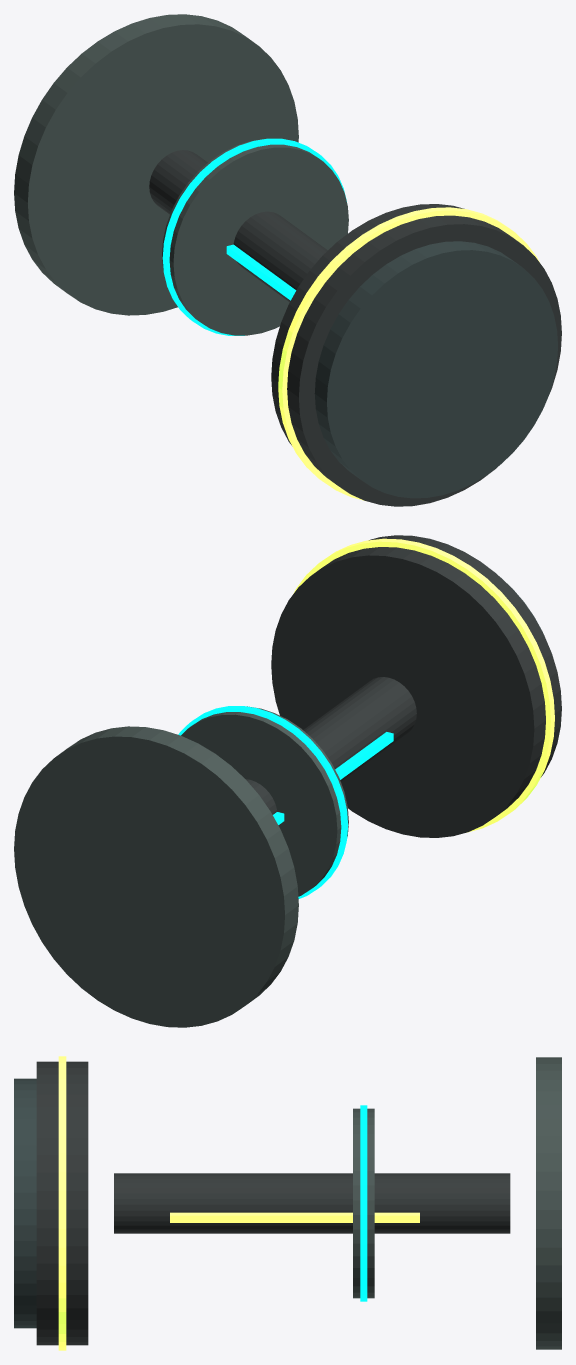
File: pedestal_barstool_lime_teal.glb
The picture shows the model from 3 angles, top to bottom: view 1: azimuth 30°, elevation 25°; view 2: azimuth 150°, elevation 25°; view 3: azimuth 270°, elevation 25°; orthographic projection. The views are drawn at different scales.
Visible parts, largest first — view 1: base_disc, dark_non_glowing_cushion, footrest_collar_metal, seat_hard_shell, center_pole, seat_outer_trim_band, footrest_trim_band, attached_pole_trim_back; view 2: base_disc, seat_hard_shell, footrest_collar_metal, center_pole, seat_outer_trim_band, footrest_trim_band, attached_pole_trim_back; view 3: center_pole, seat_hard_shell, base_disc, dark_non_glowing_cushion, footrest_collar_metal, seat_outer_trim_band, attached_pole_trim_front, footrest_trim_band.
Boxes of the visible parts, x1,y1,x2,y2 form: base_disc: [14, 14, 298, 315]; dark_non_glowing_cushion: [314, 241, 557, 498]; footrest_collar_metal: [162, 139, 348, 335]; seat_hard_shell: [271, 204, 561, 506]; center_pole: [149, 150, 327, 302]; seat_outer_trim_band: [278, 207, 539, 500]; footrest_trim_band: [162, 138, 346, 335]; attached_pole_trim_back: [226, 244, 296, 300]; base_disc: [14, 726, 298, 1027]; seat_hard_shell: [271, 535, 561, 837]; footrest_collar_metal: [181, 706, 348, 896]; center_pole: [245, 677, 416, 814]; seat_outer_trim_band: [293, 538, 554, 832]; footrest_trim_band: [178, 706, 348, 898]; attached_pole_trim_back: [273, 732, 393, 824]; center_pole: [114, 1173, 510, 1233]; seat_hard_shell: [36, 1061, 88, 1345]; base_disc: [536, 1057, 561, 1349]; dark_non_glowing_cushion: [14, 1078, 36, 1328]; footrest_collar_metal: [353, 1108, 374, 1298]; seat_outer_trim_band: [58, 1056, 66, 1350]; attached_pole_trim_front: [170, 1212, 419, 1222]; footrest_trim_band: [360, 1105, 367, 1301].
Size of the model in its own units: 0.684 by 0.684 by 1.27.
